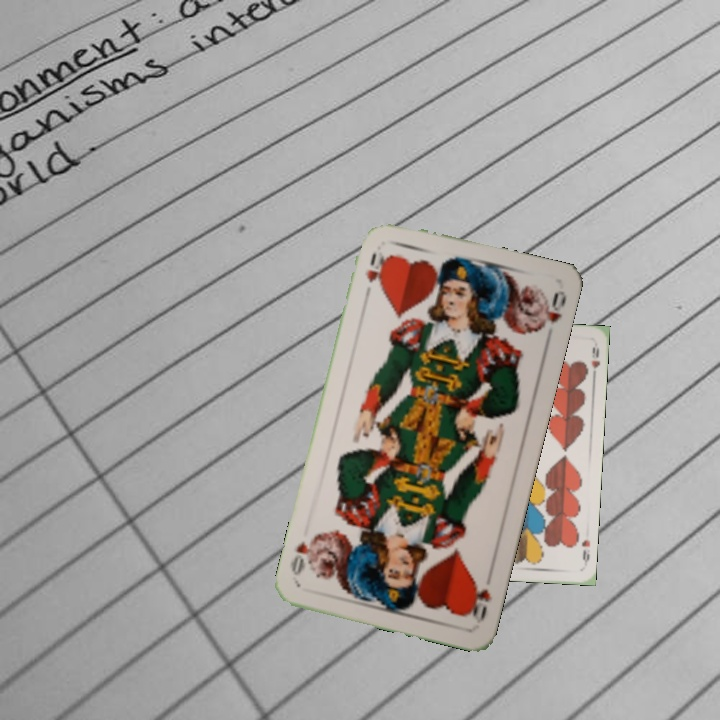H9: (577, 536, 593, 568)
HO: (464, 577, 495, 626), (361, 249, 389, 290)
